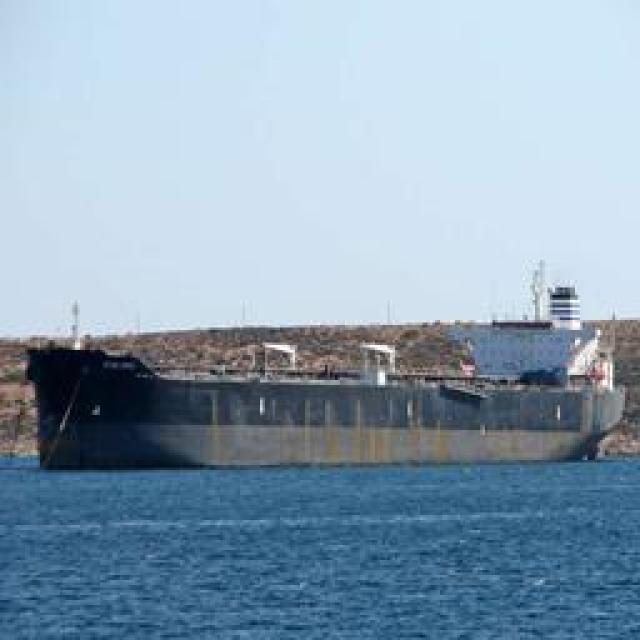CIV_Ship: (11, 322, 631, 478)
